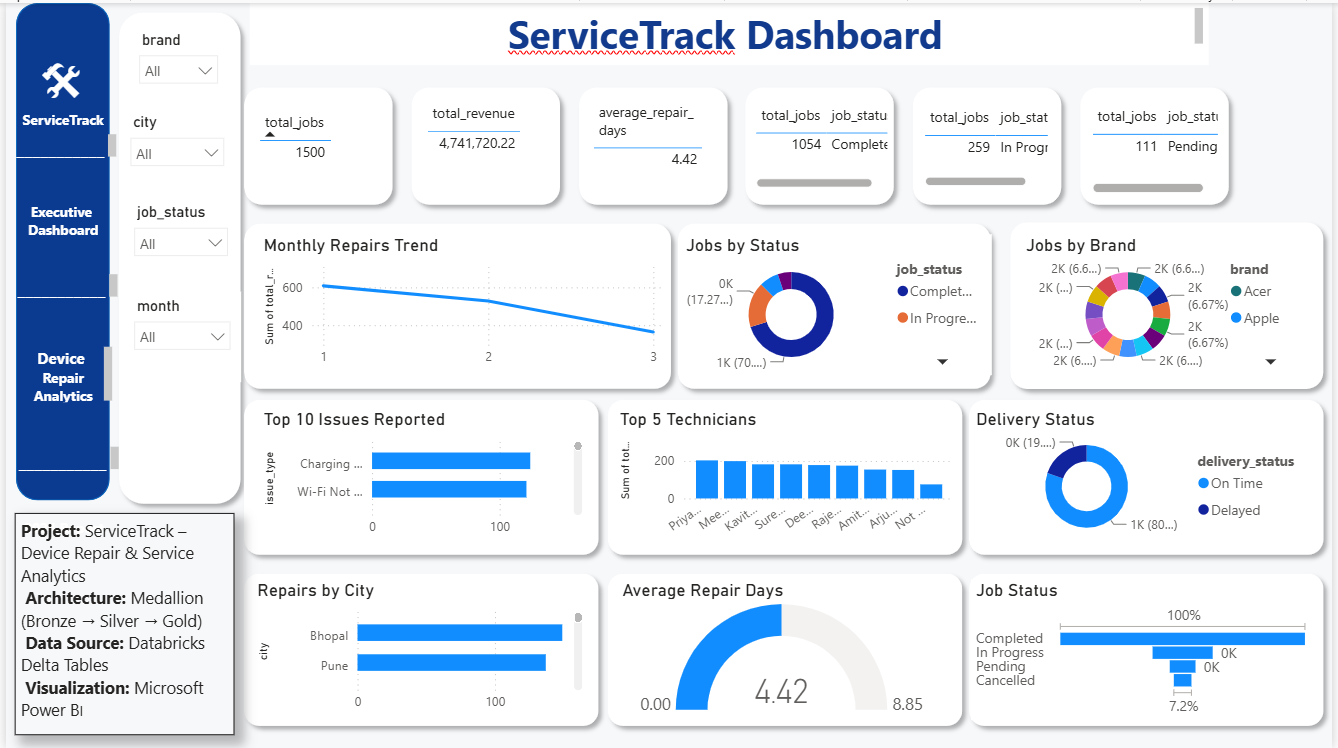

Layout of this report page (visuals, bound fields, positions):
{"tool":"powerbi","page":{"name":"Executive Dashboard","canvas":[1280,720],"ordinal":0},"visuals":[{"type":"shape","box":[9.7,0,90.5,480.2],"z":0},{"type":"shape","box":[100.1,0,135.1,492.2],"z":1000},{"type":"textbox","box":[235.3,0,925.3,60.3],"z":2000},{"type":"shape","box":[221.2,72.5,161.2,131.2],"z":3000},{"type":"shape","box":[382.5,72.5,161.2,131.2],"z":4000},{"type":"shape","box":[543.8,72.5,161.2,131.2],"z":5000},{"type":"shape","box":[705,72.5,161.2,131.2],"z":6000},{"type":"shape","box":[1027.5,72.5,161.2,131.2],"z":7000},{"type":"shape","box":[866.2,72.5,161.2,131.2],"z":8000},{"type":"shape","box":[221.2,203.8,430,177.5],"z":9000},{"type":"shape","box":[640,203.8,320,177.5],"z":10000},{"type":"shape","box":[960,202.5,320,178.8],"z":11000},{"type":"shape","box":[221.2,373.8,360,167.5],"z":12000},{"type":"shape","box":[571.2,373.8,360,167.5],"z":13000},{"type":"shape","box":[920,373.8,360,167.5],"z":14000},{"type":"shape","box":[221.2,541.2,360,165],"z":15000},{"type":"shape","box":[920,541.2,360,165],"z":16000},{"type":"shape","box":[571.2,541.2,360,165],"z":17000},{"type":"lineChart","title":"Monthly Repairs Trend","fields":{"Category":["gold_monthly_repairs.month"],"Y":["Sum(gold_monthly_repairs.total_repairs)"]},"box":[243.8,223.8,396.2,136.2],"z":18000},{"type":"donutChart","title":"Jobs by Status","fields":{"Category":["gold_job_status.job_status"],"Y":["Sum(gold_job_status.total_jobs)"]},"box":[651.2,223.8,300,136.2],"z":19000},{"type":"donutChart","title":"Jobs by Brand","fields":{"Y":["gold_brand_analysis.Total Jobs"],"Category":["gold_brand_analysis.brand"]},"box":[980,223.8,283.8,136.2],"z":20000},{"type":"barChart","title":"Top 10 Issues Reported","fields":{"Y":["Sum(gold_issue_analysis.total_cases)"],"Category":["gold_issue_analysis.issue_type"]},"box":[243.8,391.2,317.5,132.5],"z":21000},{"type":"columnChart","title":"Top 5 Technicians","fields":{"Category":["gold_technician_performance.technician_name"],"Y":["Sum(gold_technician_performance.total_jobs)"]},"box":[587.5,391.2,332.5,132.5],"z":22000},{"type":"donutChart","title":"Delivery Status","fields":{"Category":["gold_delay_analysis.delivery_status"],"Y":["Sum(gold_delay_analysis.count)"]},"box":[931.2,391.2,332.5,132.5],"z":23000},{"type":"barChart","title":"Repairs by City","fields":{"Category":["gold_city_analysis.city"],"Y":["Sum(gold_city_analysis.total_jobs)"]},"box":[237.5,556.2,323.8,136.2],"z":24000},{"type":"funnel","title":"Job Status","fields":{"Category":["gold_job_status.job_status"],"Y":["Sum(gold_job_status.total_jobs)"]},"box":[931.2,556.2,332.5,136.2],"z":25000},{"type":"slicer","fields":{"Values":["gold_brand_analysis.brand"]},"box":[118.2,21.7,96.5,101.3],"z":26000},{"type":"slicer","fields":{"Values":["gold_city_analysis.city"]},"box":[109.8,101.3,111,77.2],"z":27000},{"type":"slicer","fields":{"Values":["gold_job_status.job_status"]},"box":[113.4,188.2,111,83.2],"z":28000},{"type":"slicer","fields":{"Values":["gold_monthly_repairs.month"]},"box":[113.4,278.7,113.4,86.9],"z":29000},{"type":"tableEx","fields":{"Values":["gold_business_summary.total_jobs"]},"box":[238.8,98.8,126.2,87.5],"z":30000},{"type":"tableEx","fields":{"Values":["gold_business_summary.total_revenue"]},"box":[400,90,122.5,97.5],"z":31000},{"type":"tableEx","fields":{"Values":["gold_business_summary.average_repair_days"]},"box":[561.2,88.8,126.2,97.5],"z":32000},{"type":"tableEx","fields":{"Values":["gold_job_status.total_jobs","gold_job_status.job_status"]},"box":[717.5,91.2,137.5,91.2],"z":33000},{"type":"tableEx","fields":{"Values":["gold_job_status.total_jobs","gold_job_status.job_status"]},"box":[881.2,93.8,130,87.5],"z":34000},{"type":"tableEx","fields":{"Values":["gold_job_status.total_jobs","gold_job_status.job_status"]},"box":[1042.5,92.5,132.5,95],"z":35000},{"type":"gauge","fields":{"Y":["gold_brand_analysis.Average Repair Days"]},"box":[590,556.2,317.5,136.2],"z":36000},{"type":"textbox","box":[26.2,36.2,57.5,71.2],"z":37000},{"type":"textbox","box":[11.2,98.8,88.8,57.5],"z":38000},{"type":"textbox","box":[11.2,187.5,88.8,81.2],"z":39000},{"type":"textbox","box":[6.2,257.5,106.2,42.5],"z":40000},{"type":"textbox","box":[5,121.2,106.2,42.5],"z":41000},{"type":"textbox","box":[12.5,327.5,95,63.8],"z":42000},{"type":"textbox","box":[7.5,423.8,106.2,42.5],"z":43000},{"type":"textbox","box":[8.8,492.5,95,63.8],"z":44000},{"type":"textbox","box":[8.4,492.2,212.3,214.7],"z":44001}]}

Visuals, with their boxes in screenshot pixels (x1, y1, x2, y2):
shape: bbox=[13, 0, 106, 493]
shape: bbox=[106, 0, 245, 505]
textbox: bbox=[245, 0, 1194, 62]
shape: bbox=[230, 74, 396, 209]
shape: bbox=[396, 74, 561, 209]
shape: bbox=[561, 74, 727, 209]
shape: bbox=[727, 74, 892, 209]
shape: bbox=[1058, 74, 1223, 209]
shape: bbox=[892, 74, 1058, 209]
shape: bbox=[230, 209, 672, 391]
shape: bbox=[660, 209, 989, 391]
shape: bbox=[989, 208, 1317, 391]
shape: bbox=[230, 384, 600, 555]
shape: bbox=[590, 384, 959, 555]
shape: bbox=[947, 384, 1317, 555]
shape: bbox=[230, 555, 600, 725]
shape: bbox=[947, 555, 1317, 725]
shape: bbox=[590, 555, 959, 725]
"Monthly Repairs Trend" lineChart: bbox=[254, 230, 660, 369]
"Jobs by Status" donutChart: bbox=[672, 230, 979, 369]
"Jobs by Brand" donutChart: bbox=[1009, 230, 1300, 369]
"Top 10 Issues Reported" barChart: bbox=[254, 401, 579, 537]
"Top 5 Technicians" columnChart: bbox=[606, 401, 947, 537]
"Delivery Status" donutChart: bbox=[959, 401, 1300, 537]
"Repairs by City" barChart: bbox=[247, 571, 579, 710]
"Job Status" funnel: bbox=[959, 571, 1300, 710]
slicer - gold_brand_analysis.brand: bbox=[125, 22, 224, 126]
slicer - gold_city_analysis.city: bbox=[116, 104, 230, 183]
slicer - gold_job_status.job_status: bbox=[120, 193, 234, 278]
slicer - gold_monthly_repairs.month: bbox=[120, 286, 236, 375]
tableEx - gold_business_summary.total_jobs: bbox=[249, 101, 378, 191]
tableEx - gold_business_summary.total_revenue: bbox=[414, 92, 540, 192]
tableEx - gold_business_summary.average_repair_days: bbox=[579, 91, 709, 191]
tableEx - gold_job_status.total_jobs x gold_job_status.job_status: bbox=[740, 94, 881, 187]
tableEx - gold_job_status.total_jobs x gold_job_status.job_status: bbox=[908, 96, 1041, 186]
tableEx - gold_job_status.total_jobs x gold_job_status.job_status: bbox=[1073, 95, 1209, 192]
gauge - gold_brand_analysis.Average Repair Days: bbox=[609, 571, 935, 710]
textbox: bbox=[30, 37, 89, 110]
textbox: bbox=[15, 101, 106, 160]
textbox: bbox=[15, 192, 106, 276]
textbox: bbox=[10, 264, 119, 308]
textbox: bbox=[9, 124, 118, 168]
textbox: bbox=[16, 336, 114, 402]
textbox: bbox=[11, 435, 120, 478]
textbox: bbox=[13, 505, 110, 571]
textbox: bbox=[12, 505, 230, 725]
